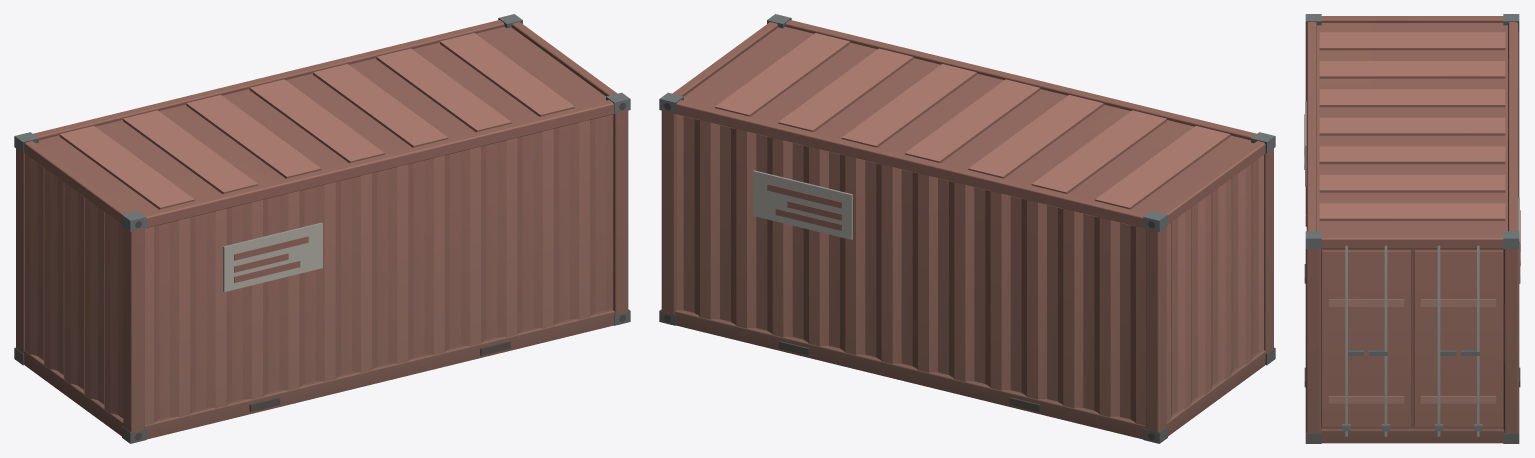
The model's file is box_red.glb.
The picture shows the model from 3 angles, left to right: view 1: azimuth 30°, elevation 25°; view 2: azimuth 150°, elevation 25°; view 3: azimuth 270°, elevation 25°; orthographic projection. The views are drawn at different scales.
Size of the model in its own units: 6.1 by 2.59 by 2.47.
